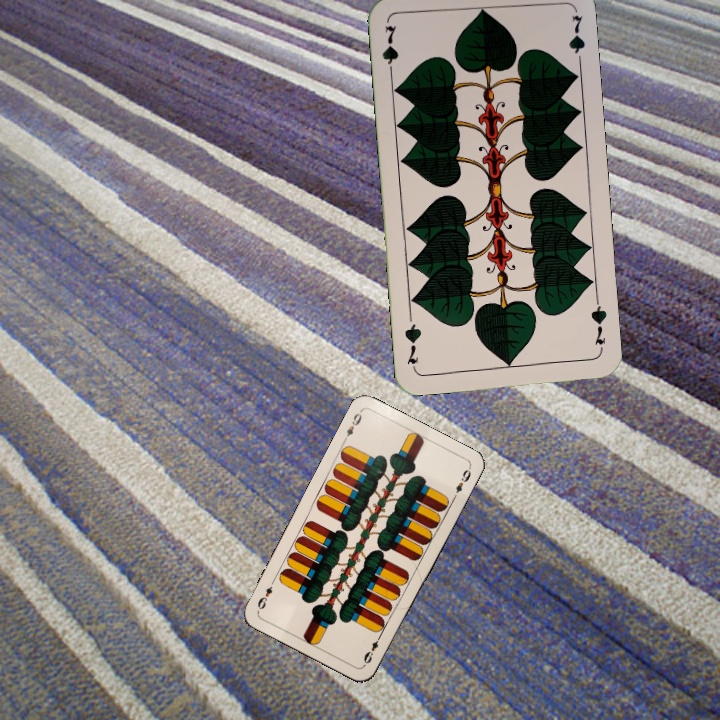E9: (359, 630, 384, 668), (340, 407, 364, 445)
G7: (378, 21, 401, 80), (587, 296, 610, 355)
